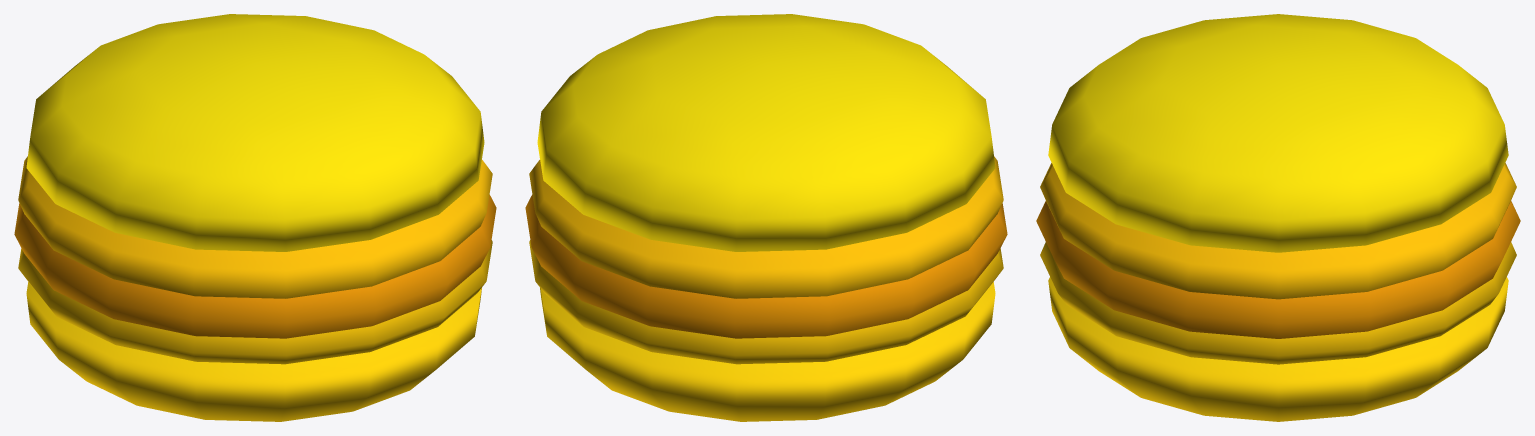
File: Cookie_02.glb
The picture shows the model from 3 angles, left to right: view 1: azimuth 30°, elevation 25°; view 2: azimuth 150°, elevation 25°; view 3: azimuth 270°, elevation 25°; orthographic projection.
Visible parts, largest first — view 1: Cookie_02; view 2: Cookie_02; view 3: Cookie_02.
Boxes of the visible parts, x1=… form: Cookie_02: x1=14, y1=14, x2=496, y2=421; Cookie_02: x1=525, y1=14, x2=1007, y2=421; Cookie_02: x1=1036, y1=14, x2=1520, y2=421.
Bounding box in the file's own units: 2.05 × 1.44 × 2.05.
Materials: 1 (1 with a texture image).
